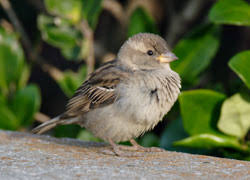hsparrow: (32, 29, 188, 160)
